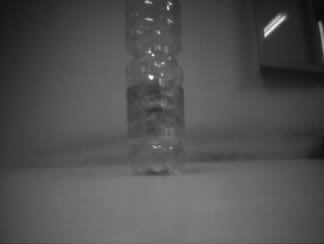Bottle: (124, 1, 186, 178)
